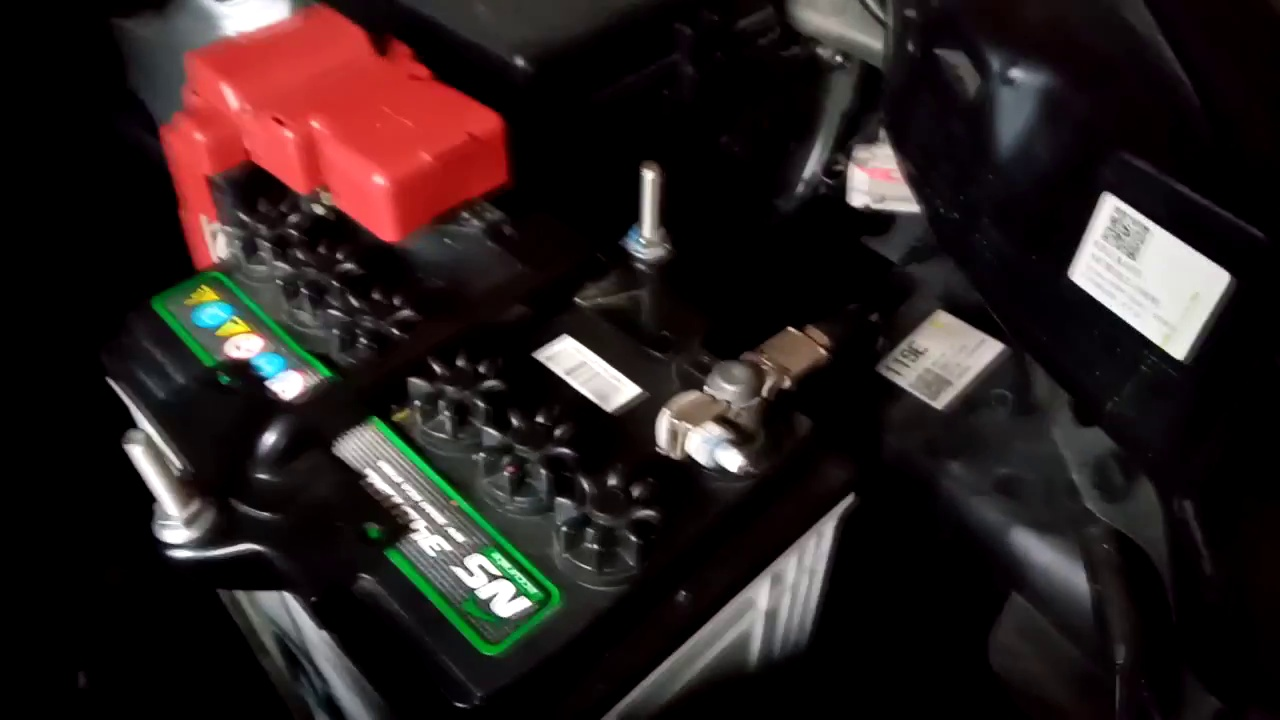battery: (83, 45, 845, 679)
neg_connected: (644, 314, 838, 496)
pos_connected: (153, 27, 528, 265)
